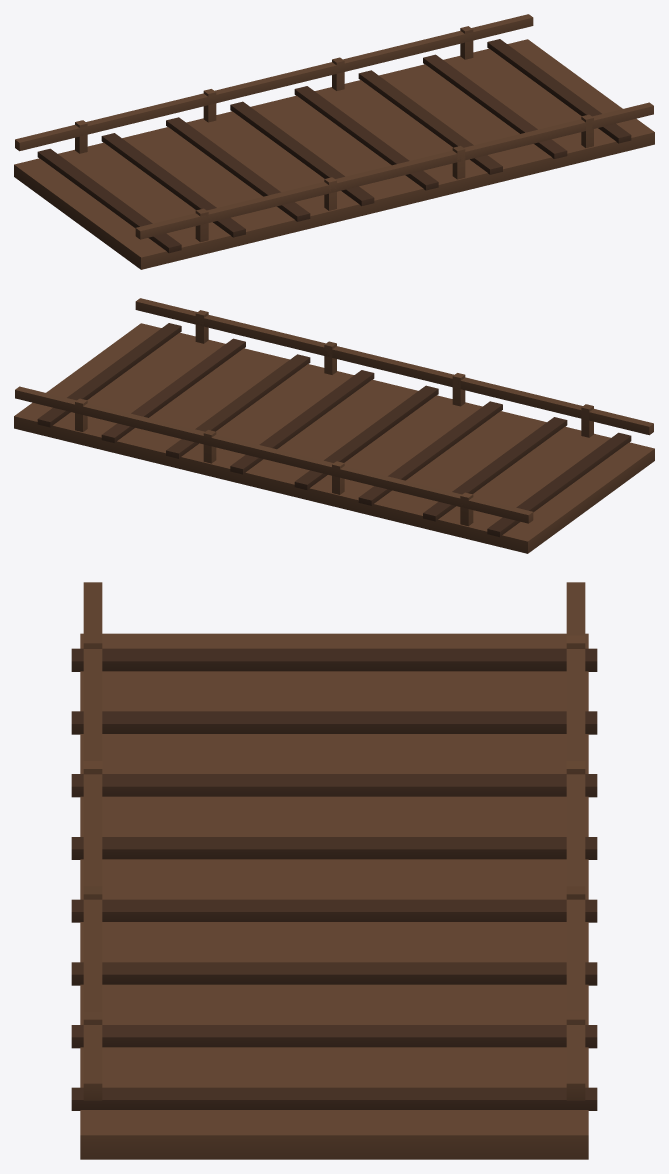
File: bridge.glb
3 renders of one model, top to bottom at view 1: azimuth 30°, elevation 25°; view 2: azimuth 150°, elevation 25°; view 3: azimuth 270°, elevation 25°, orthographic. The views are drawn at different scales.
Visible parts, largest first — view 1: bridge; view 2: bridge; view 3: bridge.
Boxes of the visible parts, x1=… form: bridge: x1=14, y1=14, x2=654, y2=269; bridge: x1=14, y1=298, x2=654, y2=553; bridge: x1=71, y1=582, x2=597, y2=1159.
Bounding box in the file's own units: 14 × 1.06 × 6.2.
